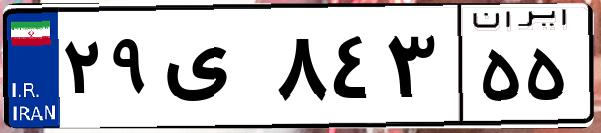2: (57, 26, 110, 100)
3: (385, 28, 445, 110)
4: (330, 28, 385, 110)
5: (475, 38, 525, 113), (525, 38, 570, 115)
8: (270, 28, 330, 110)
9: (110, 28, 158, 98)
ی: (158, 20, 270, 120)
